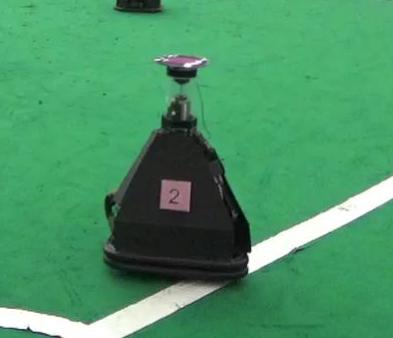robot: (97, 54, 256, 289)
